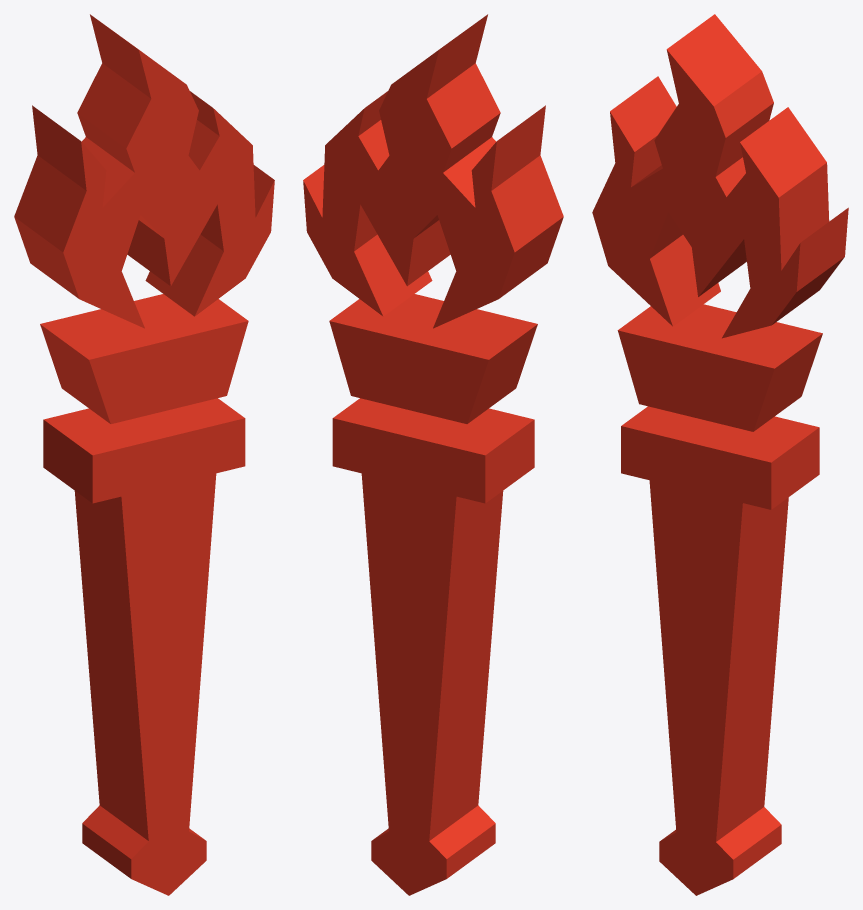
File: Icon_Torch.fbx
3 views of the same model, side by side, from view 1: azimuth 30°, elevation 25°; view 2: azimuth 150°, elevation 25°; view 3: azimuth 330°, elevation 25° (orthographic).
Parts seen in each view (by area): view 1: Icon_Torch; view 2: Icon_Torch; view 3: Icon_Torch.
Boxes of the visible parts, <box> form: Icon_Torch: <box>14,14,274,895</box>; Icon_Torch: <box>303,14,563,895</box>; Icon_Torch: <box>592,14,848,895</box>.
Size of the model in its own units: 22.56 by 86.93 by 9.06.
